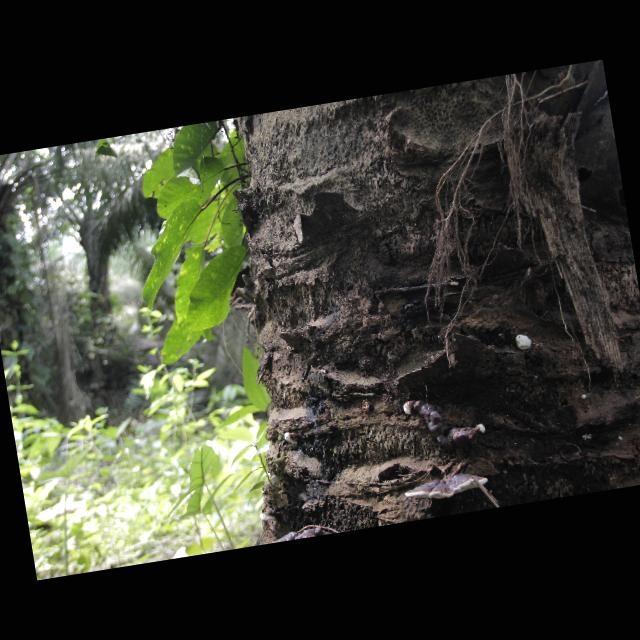ganoderma: (416, 394, 480, 456), (404, 470, 492, 507), (266, 527, 334, 546), (259, 510, 283, 525)
primordium: (516, 334, 534, 353), (285, 432, 304, 448), (403, 401, 417, 418), (477, 424, 488, 437), (582, 394, 589, 402)
